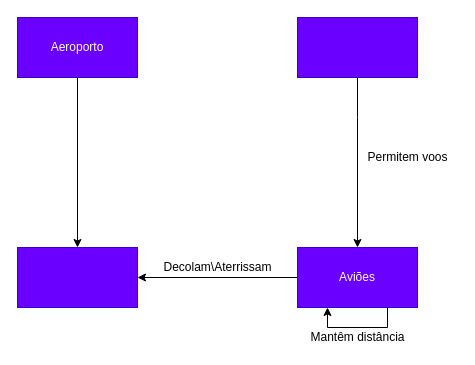
Image size: 475x365. Some labels were removed from this diagram. Here are the shapes that lost their labels. From the top down, the centre of each, then its label:
pixel 357 47: Controladores
pixel 77 277: Pistas
